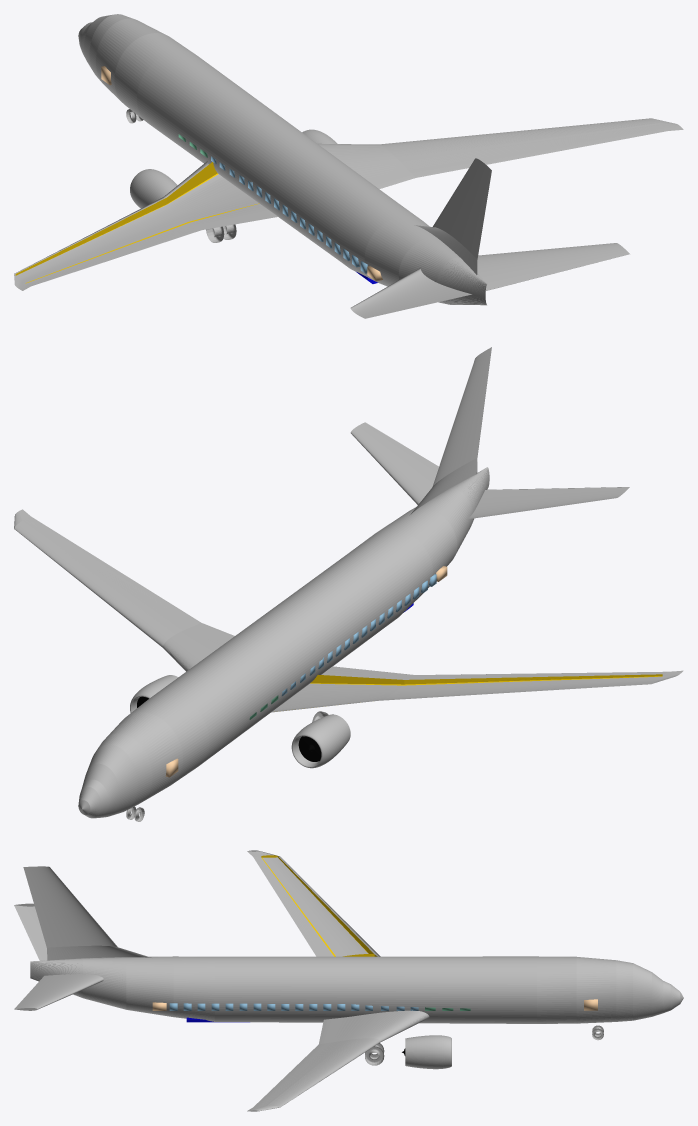
File: Boeing_737_800.gltf
3 views of the same model, one above another, from view 1: azimuth 30°, elevation 25°; view 2: azimuth 150°, elevation 25°; view 3: azimuth 270°, elevation 25° (orthographic). The views are drawn at different scales.
Parts seen in each view (by area): view 1: Renderer Node; view 2: Renderer Node; view 3: Renderer Node.
Part boxes in pixels (box(x1,y1,x2,y2)): Renderer Node: box(14, 14, 683, 318); Renderer Node: box(14, 347, 683, 821); Renderer Node: box(14, 850, 683, 1111).
Size of the model in its own units: 35.8 by 11.2 by 38.97.
